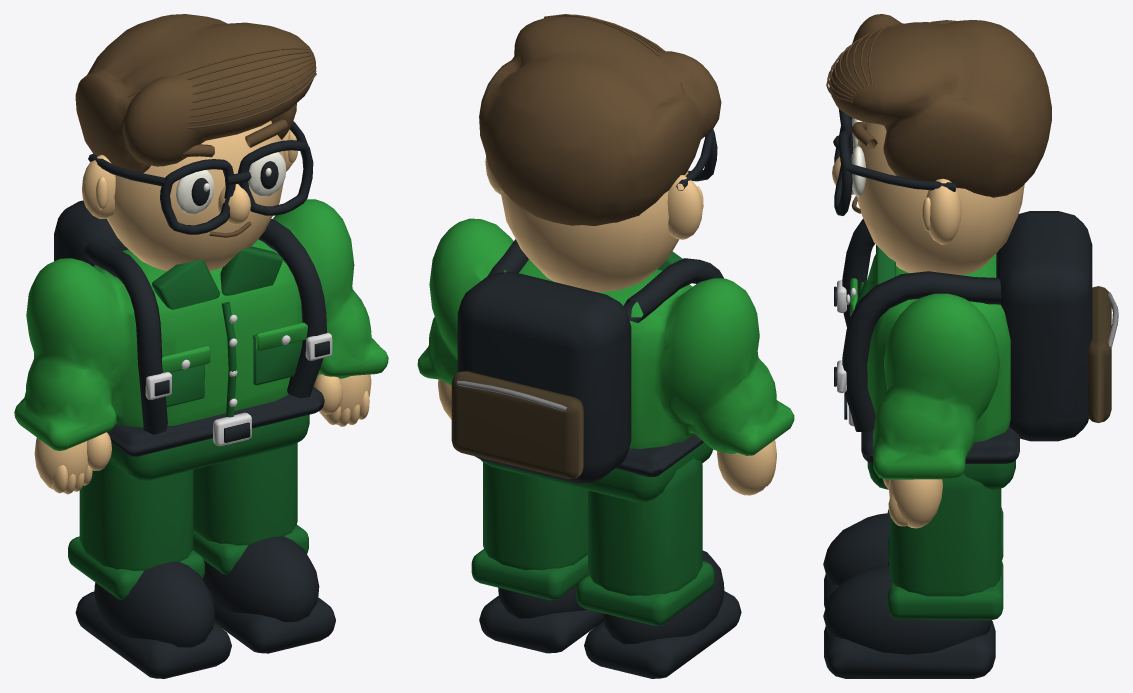
The model's file is hero-explorer.glb.
The picture shows the model from 3 angles, left to right: view 1: azimuth 30°, elevation 25°; view 2: azimuth 150°, elevation 25°; view 3: azimuth 270°, elevation 25°; orthographic projection. The views are drawn at different scales.
Parts seen in each view (by area): view 1: hero-explorer; view 2: hero-explorer; view 3: hero-explorer.
Part boxes in pixels (x1=…): hero-explorer: x1=14, y1=14, x2=388, y2=678; hero-explorer: x1=417, y1=14, x2=794, y2=678; hero-explorer: x1=823, y1=14, x2=1118, y2=678.
Bounding box in the file's own units: 0.6884 × 1.16 × 0.508.
